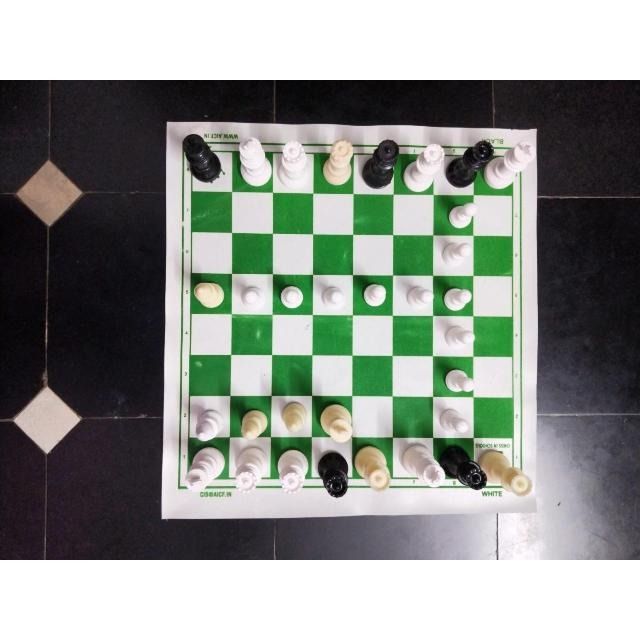black-king: (181, 132, 225, 184)
black-queen: (447, 138, 494, 190), (363, 138, 399, 189), (316, 450, 350, 498)
white-bishop: (191, 400, 226, 444), (188, 277, 227, 313), (237, 406, 269, 442), (279, 400, 308, 436)
white-king: (490, 139, 534, 186), (183, 444, 225, 493), (441, 446, 487, 490), (398, 443, 443, 487), (233, 134, 268, 186), (318, 403, 354, 443)
white-pawn: (440, 239, 476, 268), (441, 325, 477, 353), (435, 407, 471, 435), (441, 285, 474, 315), (441, 367, 477, 394), (238, 280, 266, 312), (402, 283, 436, 309), (277, 283, 307, 312), (321, 279, 348, 310), (444, 200, 476, 226), (362, 281, 388, 311)
white-queen: (481, 450, 535, 497), (353, 444, 395, 494), (404, 142, 444, 192), (277, 138, 311, 189), (322, 137, 354, 188), (233, 446, 267, 494), (274, 444, 308, 491)
